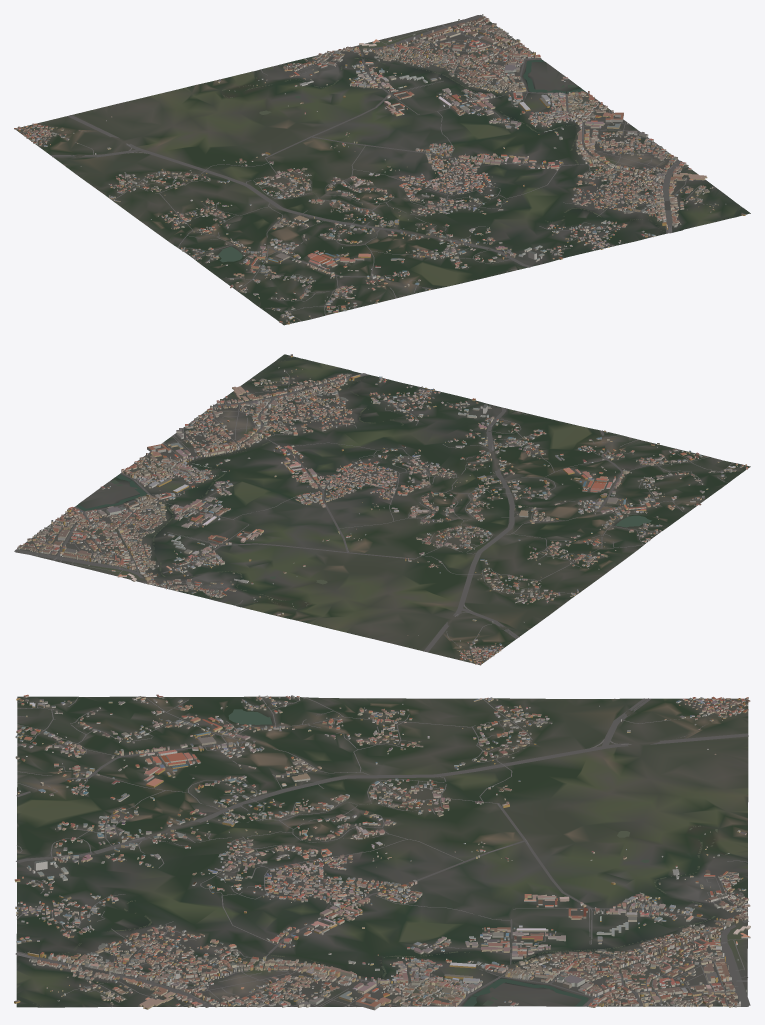
The picture shows the model from 3 angles, top to bottom: view 1: azimuth 30°, elevation 25°; view 2: azimuth 150°, elevation 25°; view 3: azimuth 270°, elevation 25°; orthographic projection. The views are drawn at different scales.
Parts seen in each view (by area): view 1: ground, buildings, roads, water; view 2: ground, buildings, roads, water; view 3: ground, buildings, roads, water.
Part boxes in pixels (<box>): ground: <box>16,19,750,325</box>; buildings: <box>14,14,745,324</box>; roads: <box>21,15,715,323</box>; water: <box>218,58,740,262</box>; ground: <box>19,354,750,664</box>; buildings: <box>17,354,747,665</box>; roads: <box>14,371,745,660</box>; water: <box>76,360,651,609</box>; ground: <box>16,696,748,1007</box>; buildings: <box>14,694,750,1010</box>; roads: <box>15,696,750,1007</box>; water: <box>25,709,727,1006</box>.
Bounding box in the file's own units: 2842 × 36.08 × 2827.
